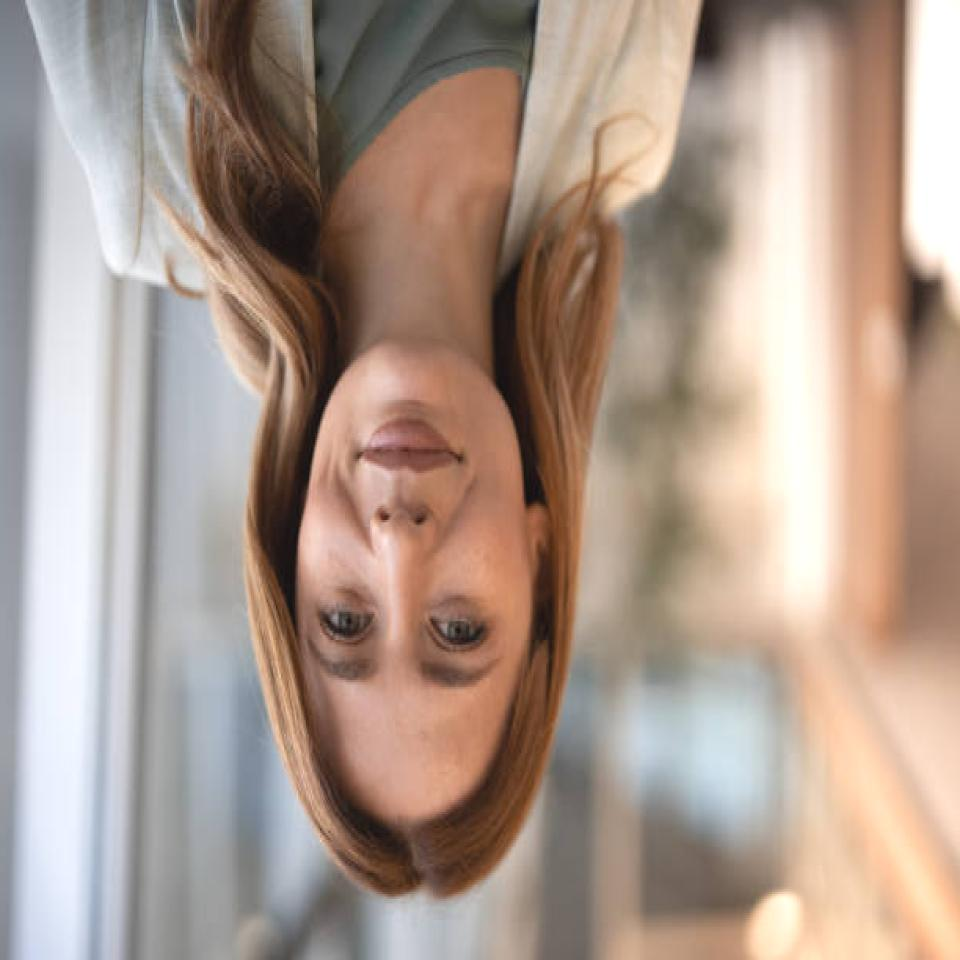Happiness: (292, 344, 520, 724)
